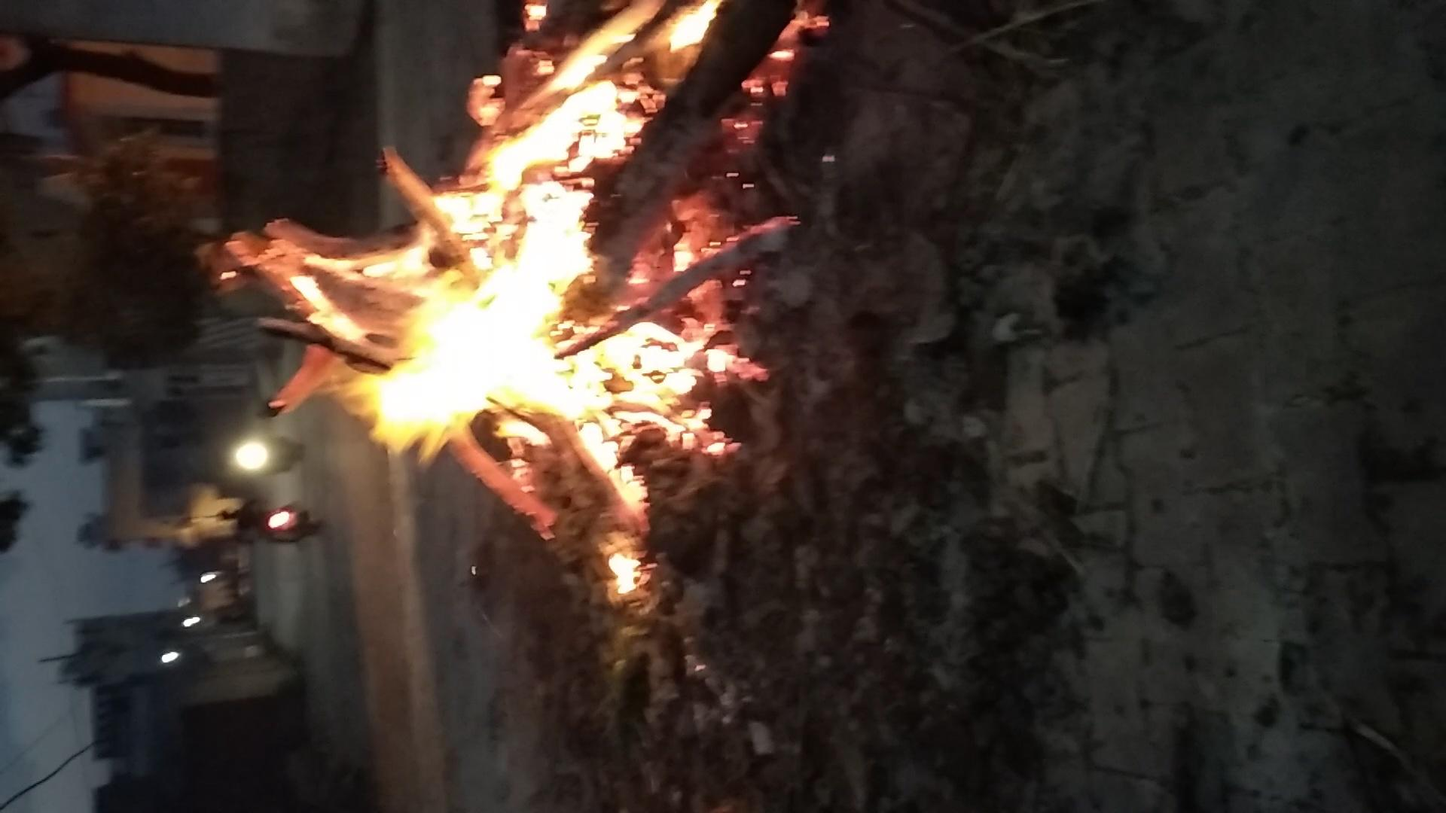fire: (490, 117, 1388, 449)
